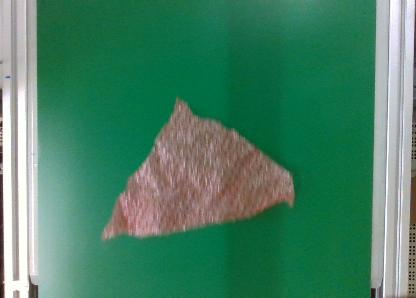Others: (101, 96, 294, 242)
